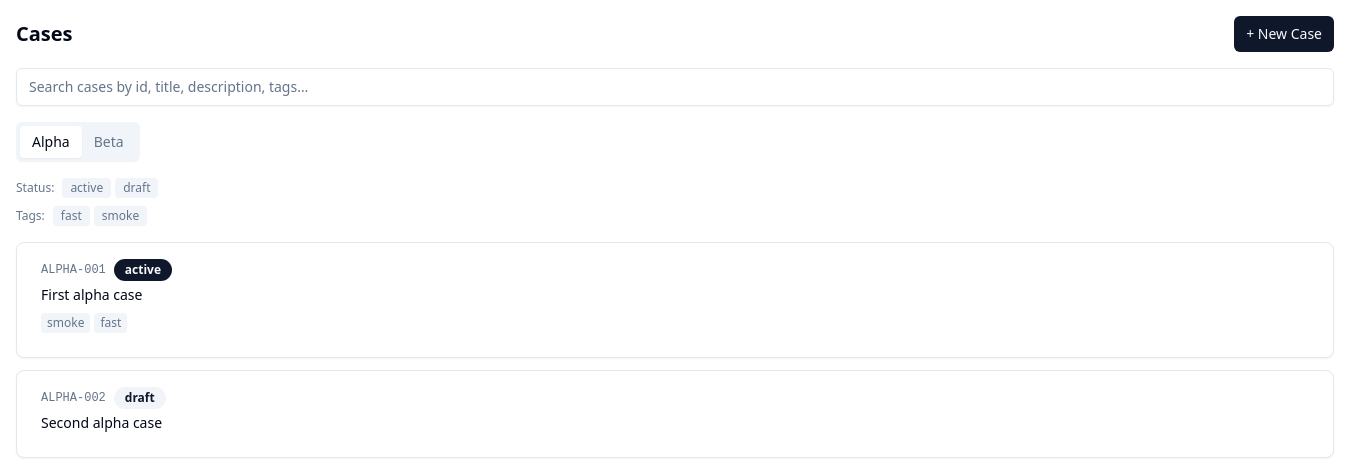
CasesPage › fetches cases for the second tab when it is selected
The width and height of the screenshot is (1351, 475).
Press the mouse on the tab with test id "tab-cat_beta" at {"x": 109, "y": 142}, box [82,126,136,158]
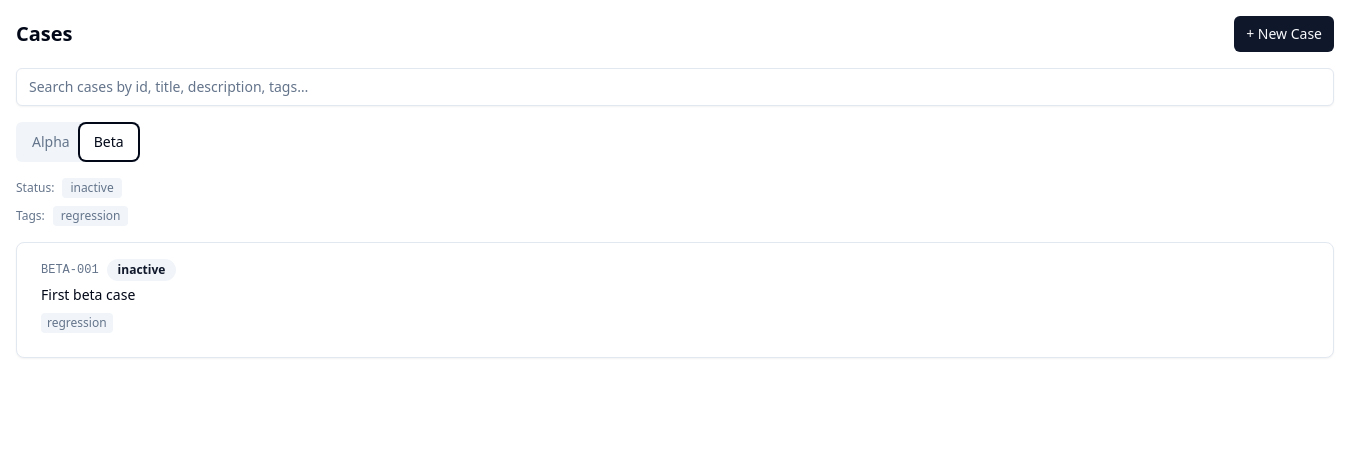
Expected: the element with test id "case-card-BETA-001" is shown, [16,242,1334,358]
